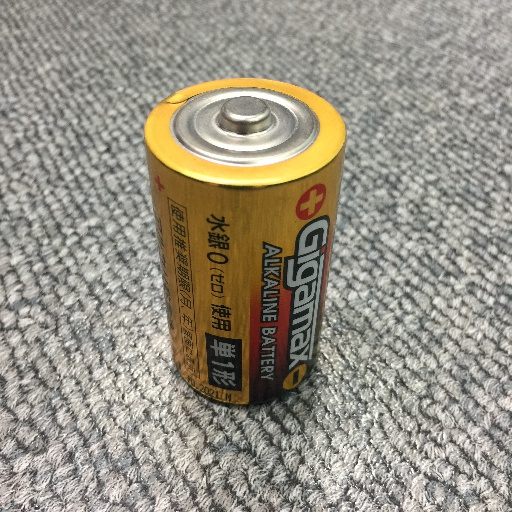Battery_0: (135, 63, 351, 413)
